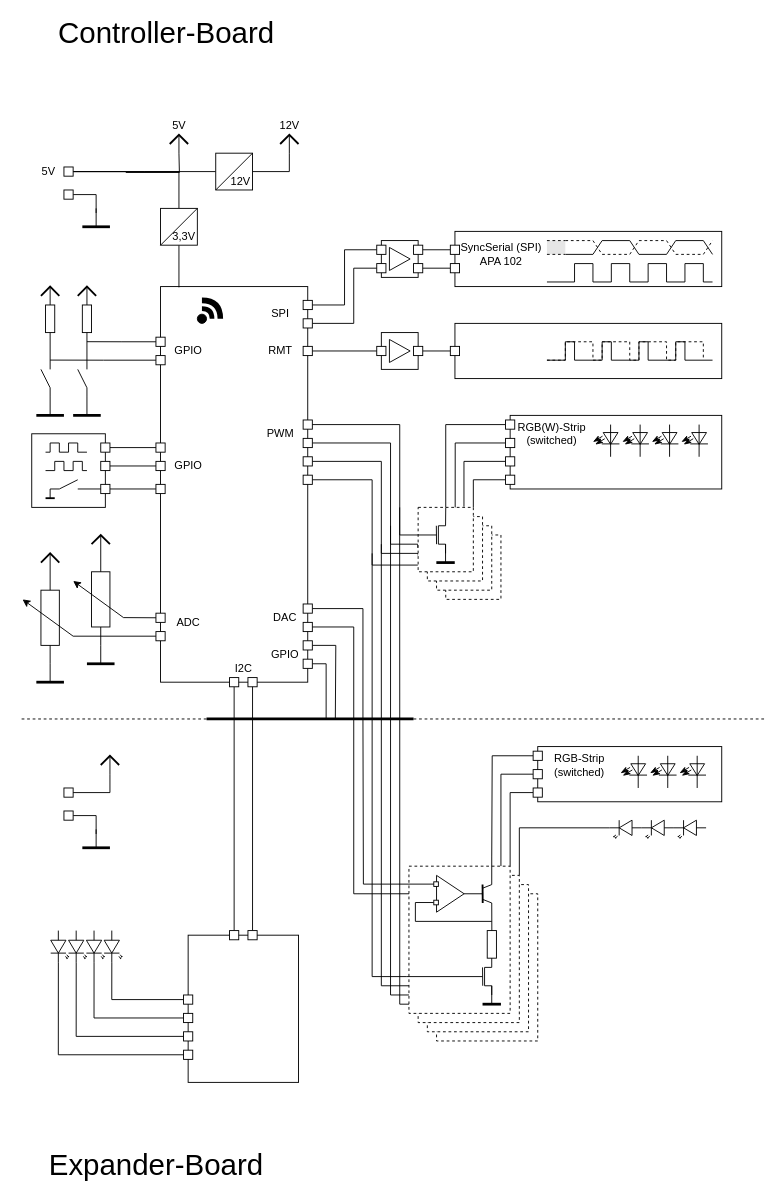
The diagram is 784 pixels wide and 1198 high, and some of its shapes have lost their labels. Here are the shapes that lost their labels. From the top down, the box of each, then its label:
(454, 322, 722, 379): AsyncSerial (RTZ) WS2812
(160, 286, 308, 682): ESP32
